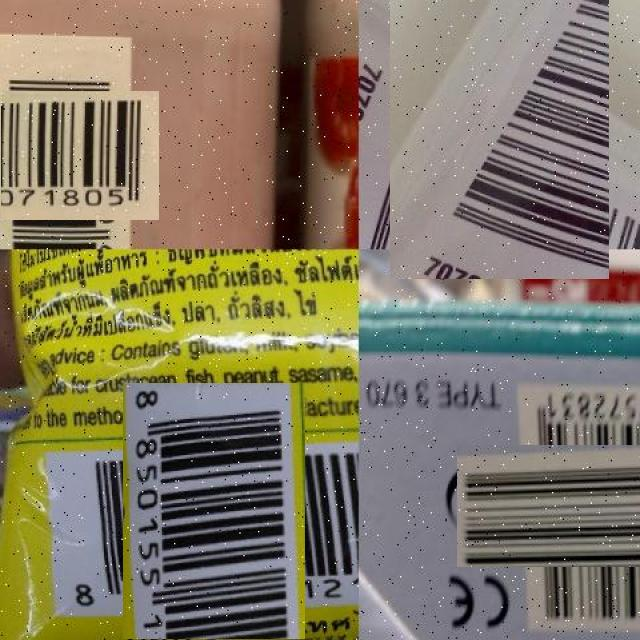Barcode: (374, 14, 625, 264), (96, 409, 332, 640), (487, 414, 640, 597), (0, 76, 145, 234)
